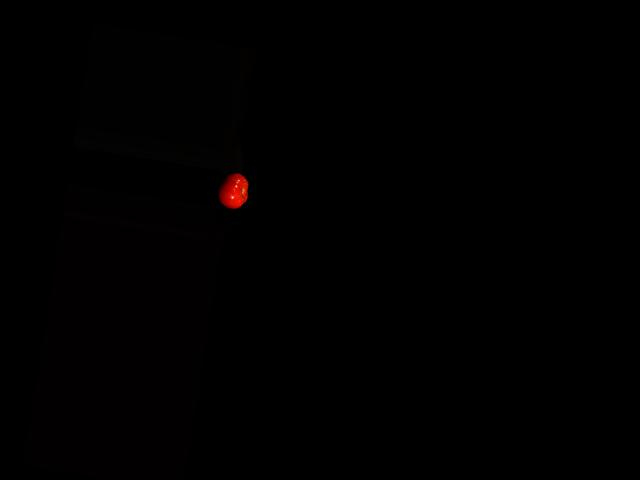tomato: (215, 171, 250, 211)
